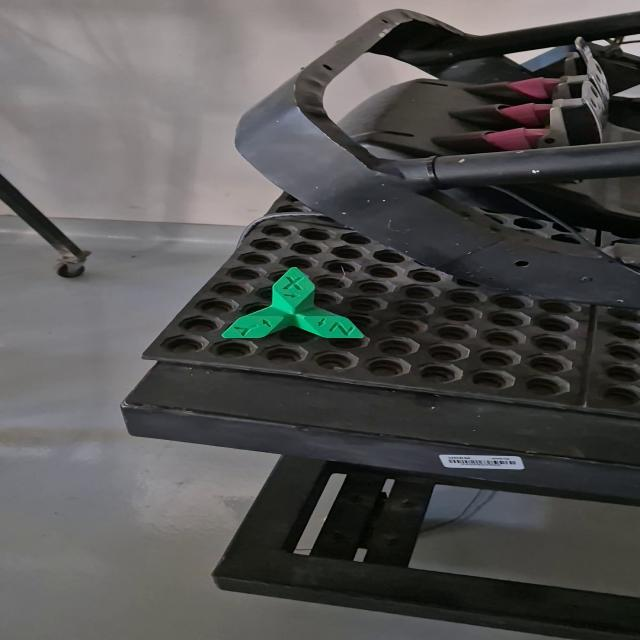objects: (220, 266, 366, 339)
